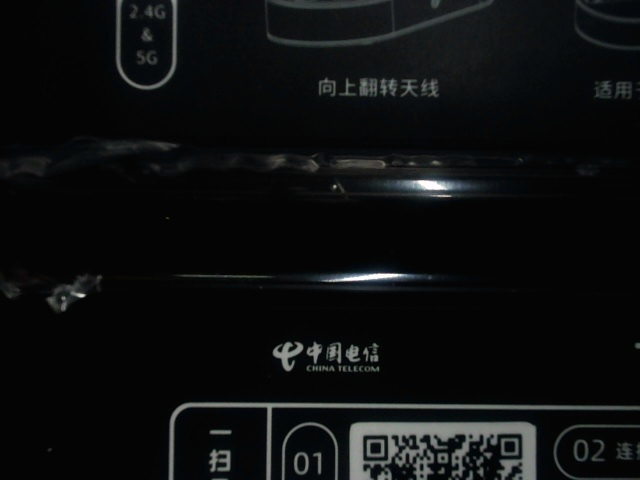AB_ChinaTelecom: (263, 331, 387, 375)
